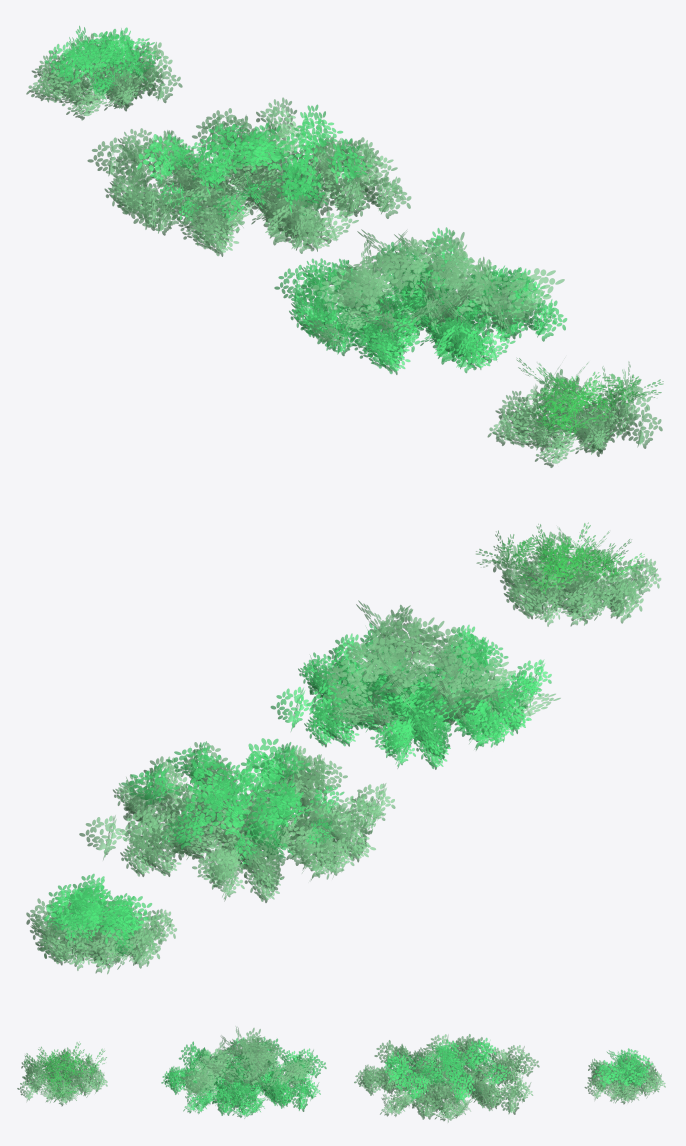
Rendered from Jabami_Anime_Bush_v1.glb.
The picture shows the model from 3 angles, top to bottom: view 1: azimuth 30°, elevation 25°; view 2: azimuth 150°, elevation 25°; view 3: azimuth 270°, elevation 25°; orthographic projection. The views are drawn at different scales.
Parts seen in each view (by area): view 1: bush02_jabami_mesh_leave_bush_01_mat_0, bush03_jabami_mesh_leave_bush_00_mat_0, bush03_jabami_mesh_leave_bush_01_mat_0, bush02_jabami_mesh_leave_bush_00_mat_0, bush04_jabami_mesh_leave_bush_01_mat_0, bush01_jabami_mesh_leave_bush_01_mat_0, bush01_jabami_mesh_leave_bush_00_mat_0, bush04_jabami_mesh_leave_bush_03_mat_0; view 2: bush02_jabami_mesh_leave_bush_01_mat_0, bush03_jabami_mesh_leave_bush_00_mat_0, bush03_jabami_mesh_leave_bush_01_mat_0, bush02_jabami_mesh_leave_bush_00_mat_0, bush04_jabami_mesh_leave_bush_01_mat_0, bush01_jabami_mesh_leave_bush_01_mat_0, bush01_jabami_mesh_leave_bush_00_mat_0, bush04_jabami_mesh_leave_bush_03_mat_0; view 3: bush02_jabami_mesh_leave_bush_01_mat_0, bush03_jabami_mesh_leave_bush_00_mat_0, bush03_jabami_mesh_leave_bush_01_mat_0, bush02_jabami_mesh_leave_bush_00_mat_0, bush04_jabami_mesh_leave_bush_01_mat_0, bush01_jabami_mesh_leave_bush_01_mat_0, bush04_jabami_mesh_leave_bush_03_mat_0, bush01_jabami_mesh_leave_bush_00_mat_0.
Boxes of the visible parts, left/top/right/bottom form: bush02_jabami_mesh_leave_bush_01_mat_0: left=87, top=97, right=411, bottom=256; bush03_jabami_mesh_leave_bush_00_mat_0: left=274, top=227, right=566, bottom=374; bush03_jabami_mesh_leave_bush_01_mat_0: left=304, top=229, right=564, bottom=346; bush02_jabami_mesh_leave_bush_00_mat_0: left=137, top=104, right=372, bottom=222; bush04_jabami_mesh_leave_bush_01_mat_0: left=487, top=369, right=662, bottom=467; bush01_jabami_mesh_leave_bush_01_mat_0: left=26, top=33, right=182, bottom=120; bush01_jabami_mesh_leave_bush_00_mat_0: left=44, top=26, right=161, bottom=100; bush04_jabami_mesh_leave_bush_03_mat_0: left=516, top=358, right=663, bottom=436; bush02_jabami_mesh_leave_bush_01_mat_0: left=79, top=742, right=395, bottom=902; bush03_jabami_mesh_leave_bush_00_mat_0: left=270, top=623, right=551, bottom=769; bush03_jabami_mesh_leave_bush_01_mat_0: left=319, top=600, right=560, bottom=733; bush02_jabami_mesh_leave_bush_00_mat_0: left=121, top=738, right=344, bottom=864; bush04_jabami_mesh_leave_bush_01_mat_0: left=492, top=531, right=661, bottom=626; bush01_jabami_mesh_leave_bush_01_mat_0: left=26, top=887, right=176, bottom=974; bush01_jabami_mesh_leave_bush_00_mat_0: left=43, top=874, right=151, bottom=956; bush04_jabami_mesh_leave_bush_03_mat_0: left=476, top=522, right=644, bottom=595; bush02_jabami_mesh_leave_bush_01_mat_0: left=354, top=1034, right=539, bottom=1122; bush03_jabami_mesh_leave_bush_00_mat_0: left=161, top=1037, right=326, bottom=1118; bush03_jabami_mesh_leave_bush_01_mat_0: left=179, top=1027, right=317, bottom=1104; bush02_jabami_mesh_leave_bush_00_mat_0: left=384, top=1038, right=510, bottom=1111; bush04_jabami_mesh_leave_bush_01_mat_0: left=17, top=1047, right=107, bottom=1106; bush01_jabami_mesh_leave_bush_01_mat_0: left=584, top=1053, right=665, bottom=1104; bush04_jabami_mesh_leave_bush_03_mat_0: left=24, top=1041, right=106, bottom=1098; bush01_jabami_mesh_leave_bush_00_mat_0: left=593, top=1048, right=653, bottom=1090.
Bounding box in the file's own units: 6.17 × 2.27 × 21.39.
Materials: 3 (3 with a texture image).
